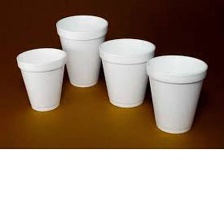paper_cup: (141, 50, 211, 136), (94, 33, 159, 111), (52, 10, 110, 91), (11, 45, 72, 114)
